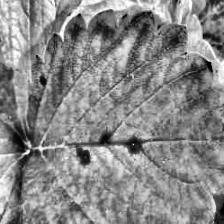Leaf Spot: (20, 8, 224, 224), (0, 0, 108, 148), (0, 107, 75, 224), (190, 0, 224, 79)
